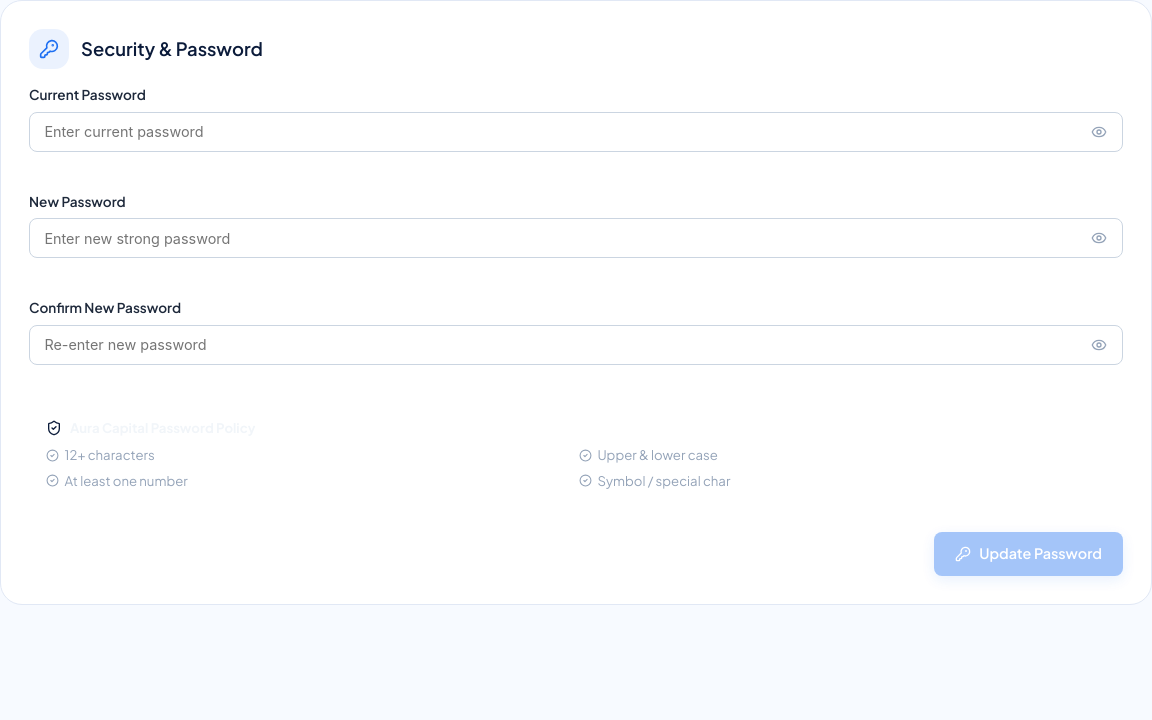
ChangePasswordForm (FEAT-078) › submits compliant password change and displays success banner
Type "CurrentSecret123!" into the password field labelled "Current Password" at (576, 132), box [29, 112, 1123, 152]
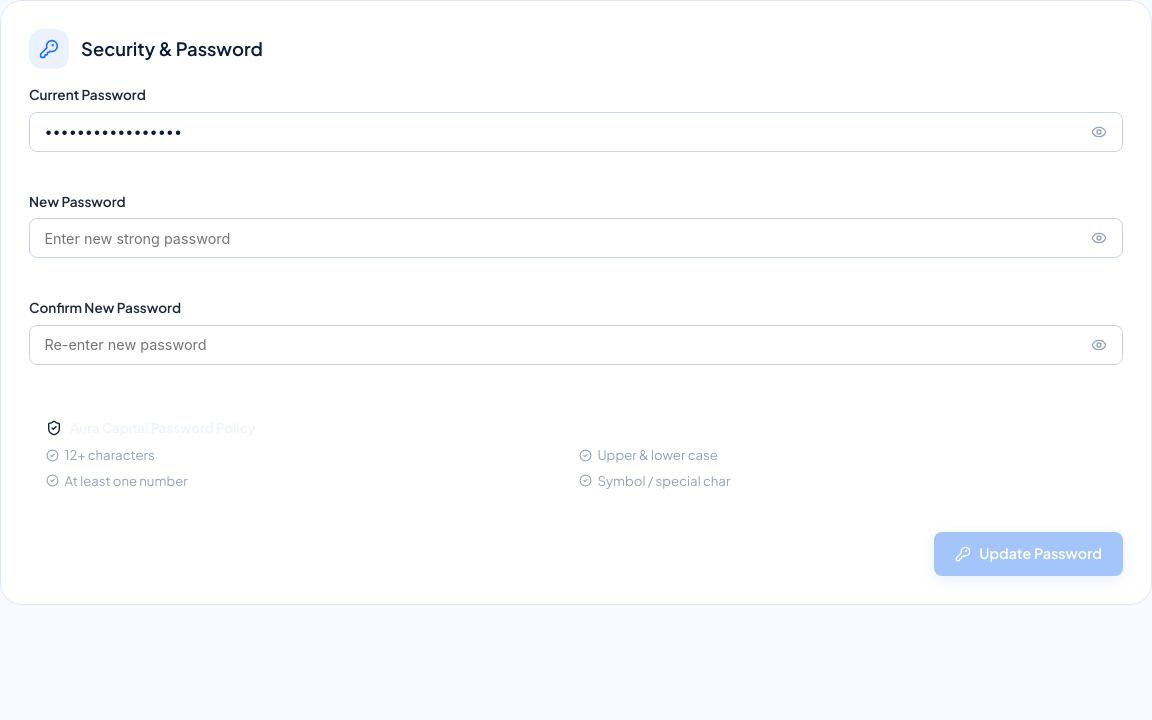
Type "BrandNewSecret123!" into the password field labelled "New Password" at (576, 238), box [29, 218, 1123, 258]
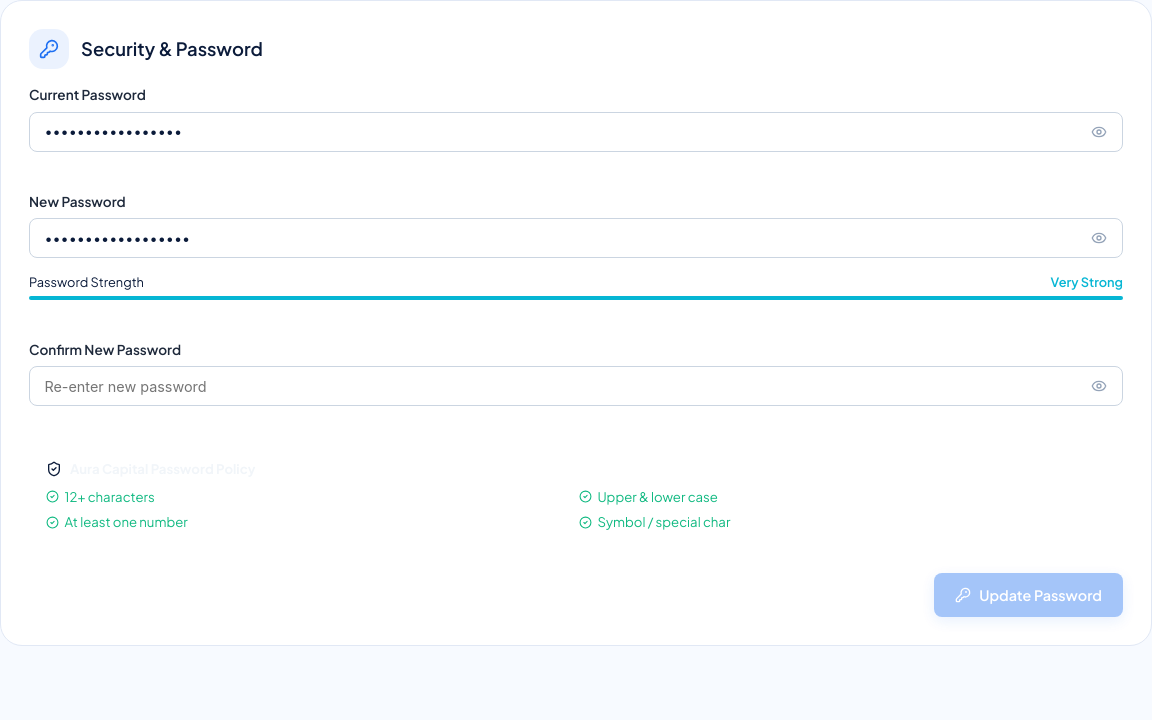
Type "BrandNewSecret123!" into the password field labelled "Confirm New Password" at (576, 386), box [29, 366, 1123, 406]
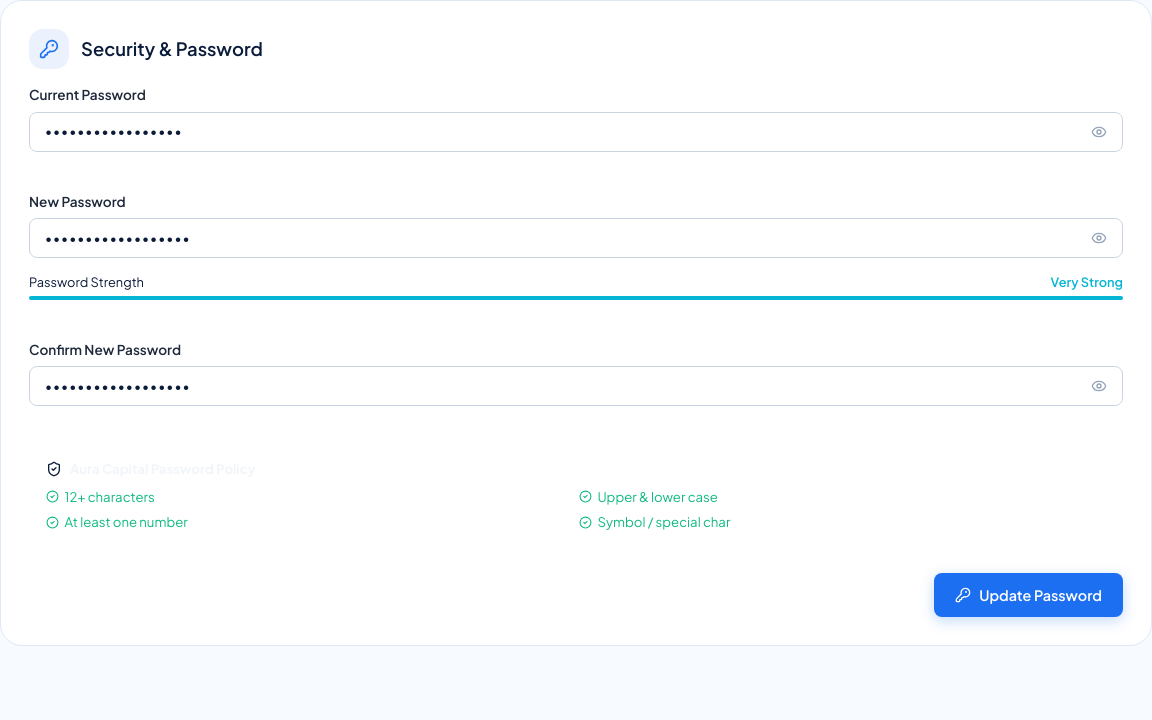
Now the button with aria-label "update account password" is enabled
Click the button with aria-label "update account password" at (1029, 595), box [934, 573, 1123, 617]
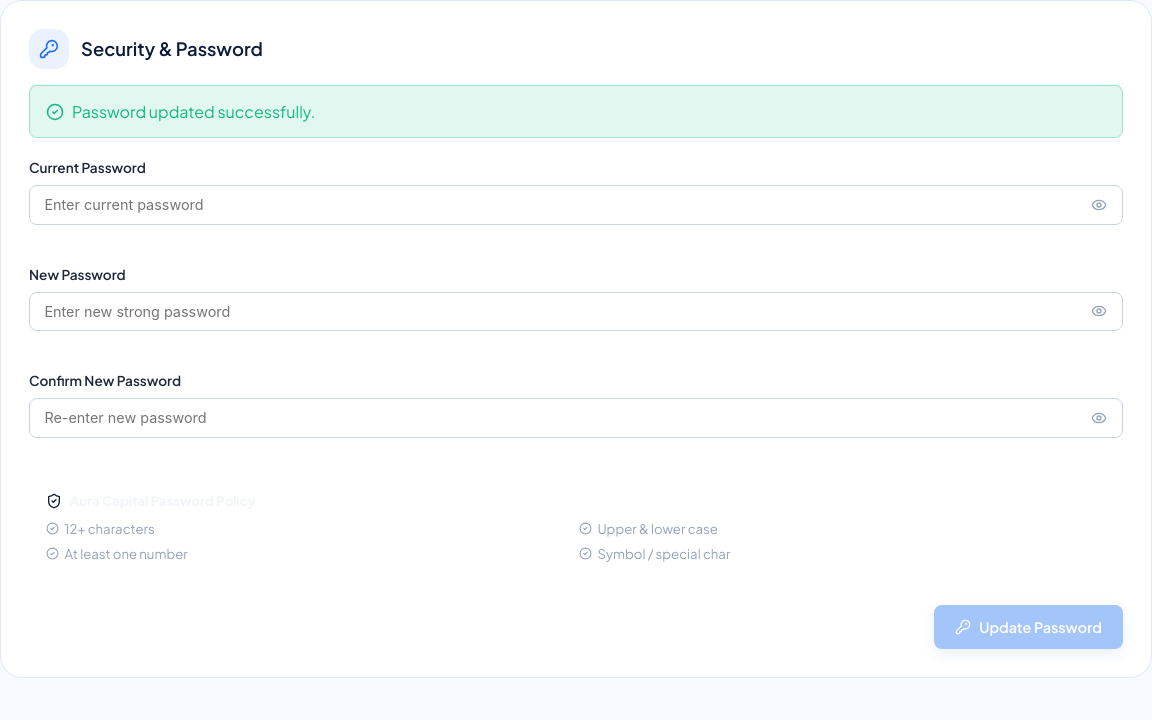
Now the text "Password updated successfully." is shown, box [72, 100, 315, 124]
Now the password field labelled "Current Password" is empty, box [29, 185, 1123, 225]
Now the password field labelled "New Password" is empty, box [29, 292, 1123, 331]
